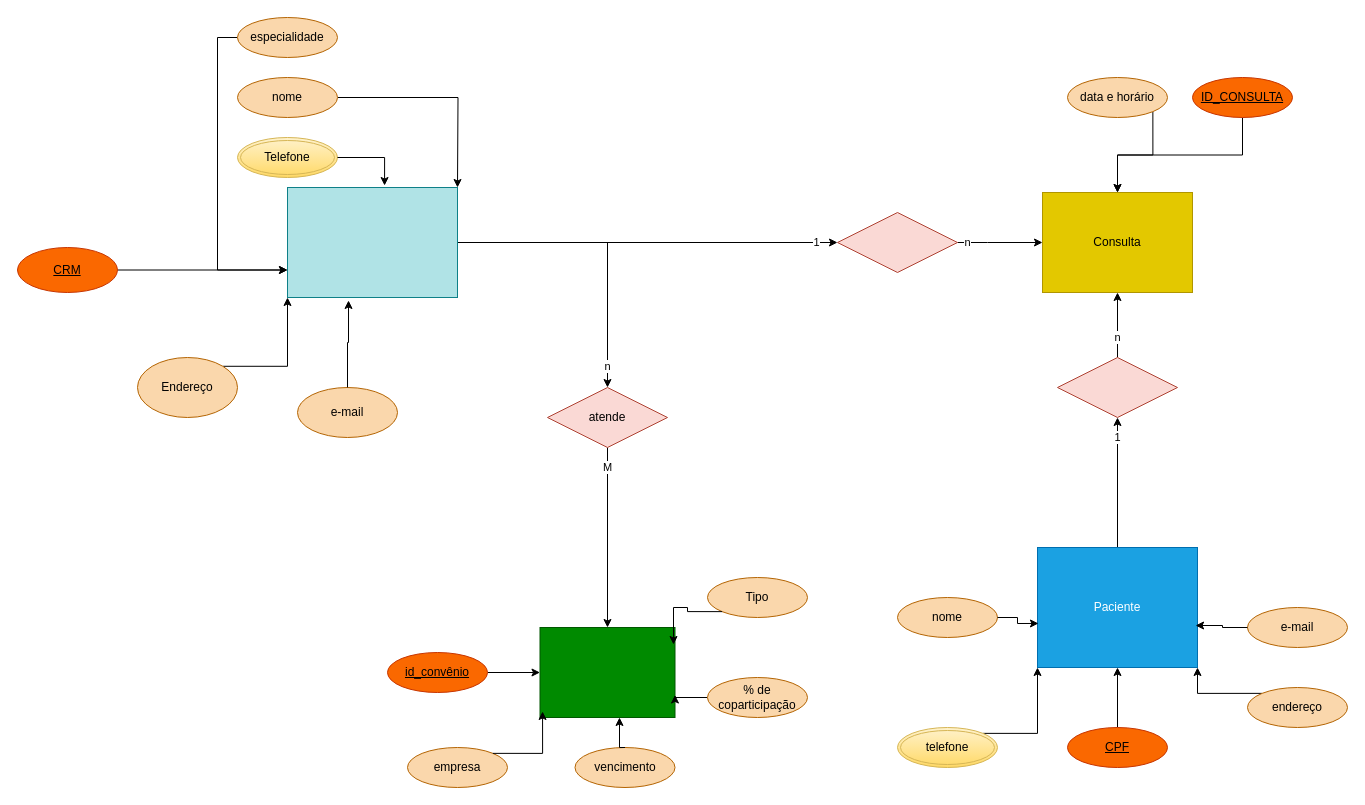
Some shapes in this 1365 by 805 pixel diagram are drawn without their labels. The centre of each missing label's shape, as x and y in pixels:
Convênio: pixel 607 672
Marcar/agendar: pixel 1117 387
Médico: pixel 372 242
Realiza: pixel 897 242
